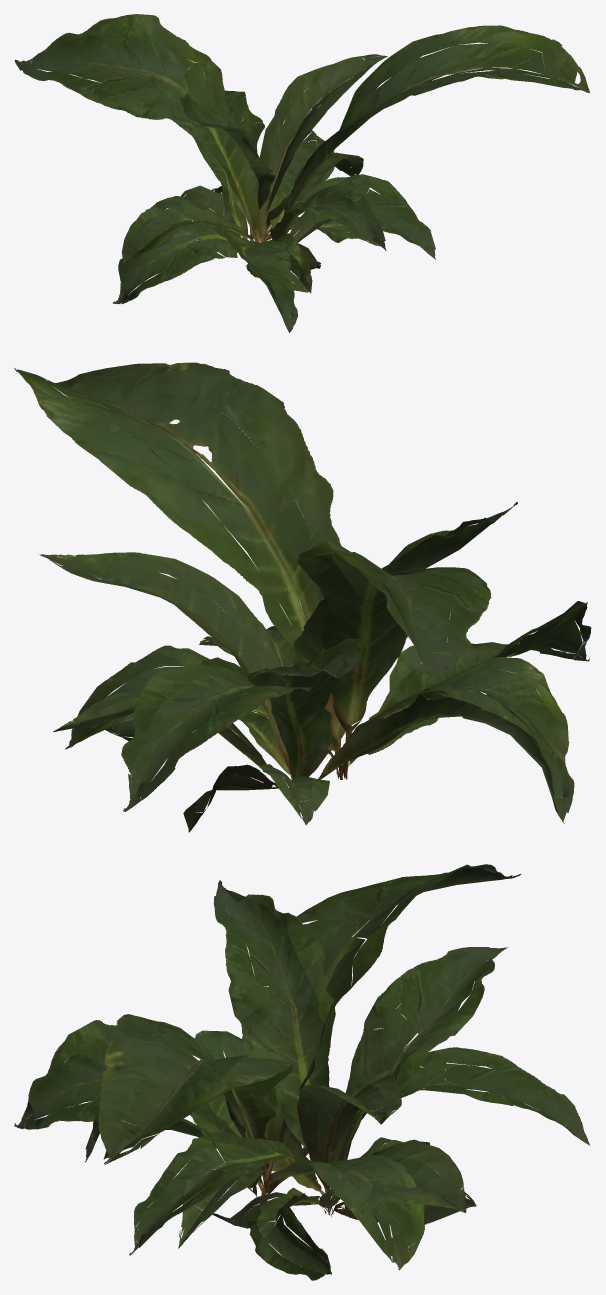
The model's file is veg-plant-anthurium-1d7f652bbfb1.glb.
3 renders of one model, top to bottom at view 1: azimuth 30°, elevation 25°; view 2: azimuth 150°, elevation 25°; view 3: azimuth 270°, elevation 25°, orthographic. The views are drawn at different scales.
Parts seen in each view (by area): view 1: veg-plant-anthurium; view 2: veg-plant-anthurium; view 3: veg-plant-anthurium.
Boxes of the visible parts, box(x1,y1,x2,y2) form: veg-plant-anthurium: box(14, 14, 590, 333); veg-plant-anthurium: box(14, 362, 591, 832); veg-plant-anthurium: box(14, 864, 589, 1280).
Bounding box in the file's own units: 1.28 × 0.65 × 1.14.
1 material, 1 textured.
